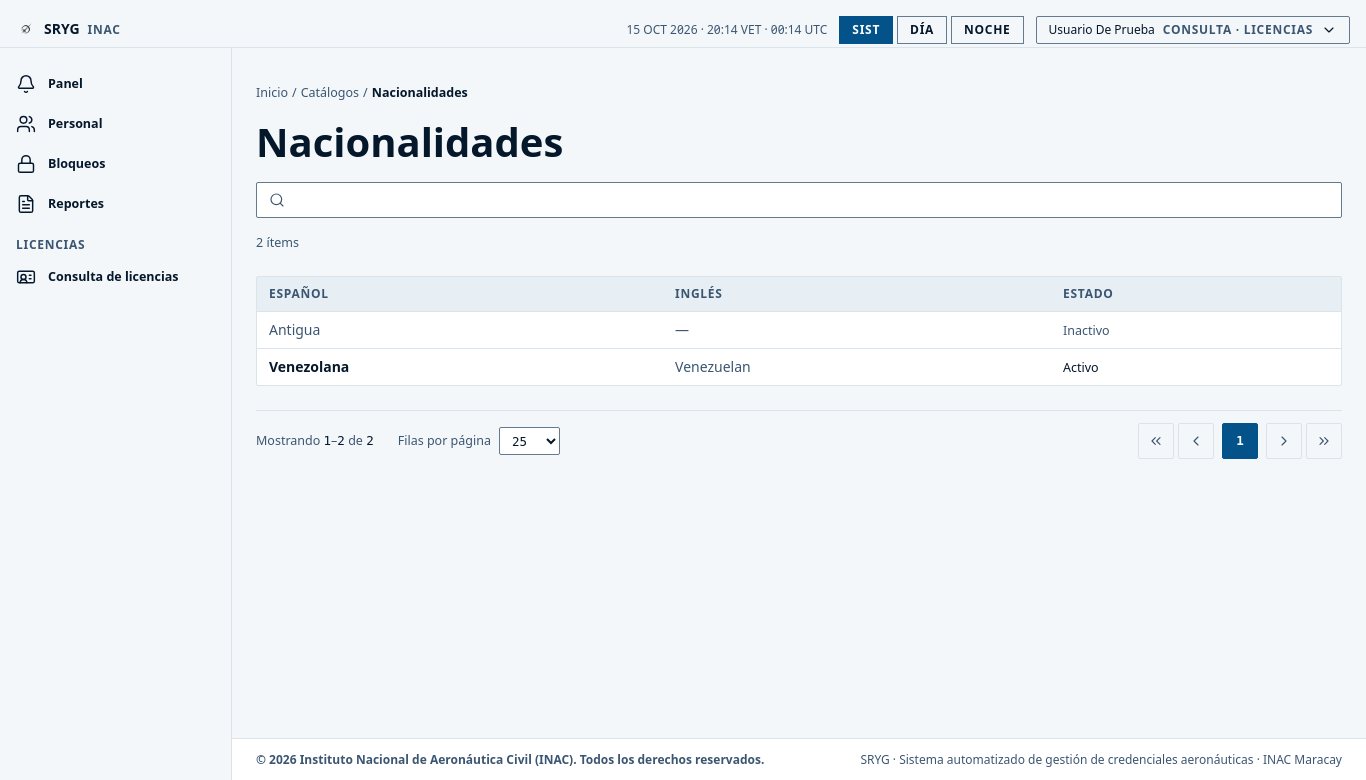
/catalogos/:catalogo (D19) › shows every item with both names and its state, and searches on the server
Expected: the heading "Nacionalidades" is shown, [256,118,563,166]
Step 1. Type "ven" into the search field named "Buscar en el catálogo" → x=815, y=200, box [289,190,1341,211]
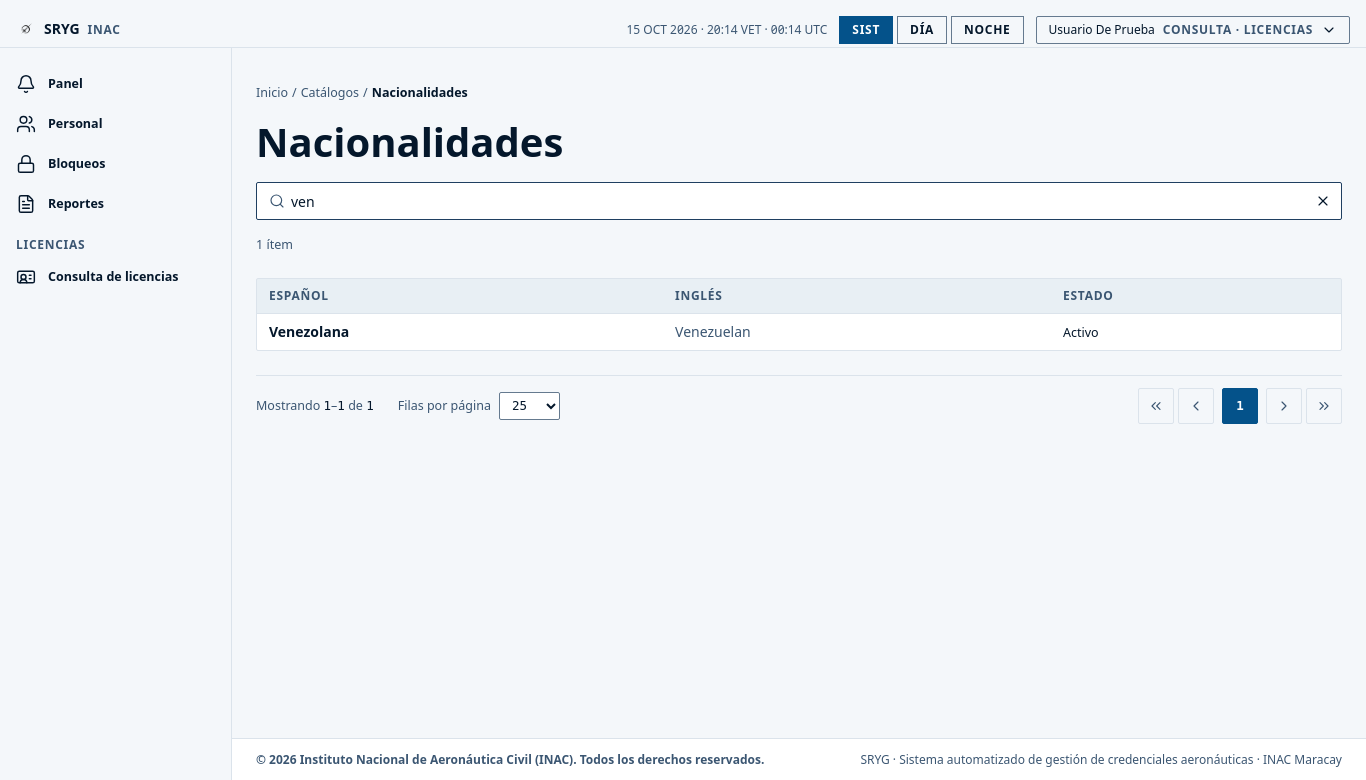
Expected: the text "Antigua" is gone
